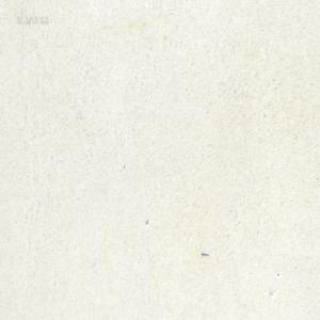Nailtrack_idkeyframe: (200, 250, 208, 256)
